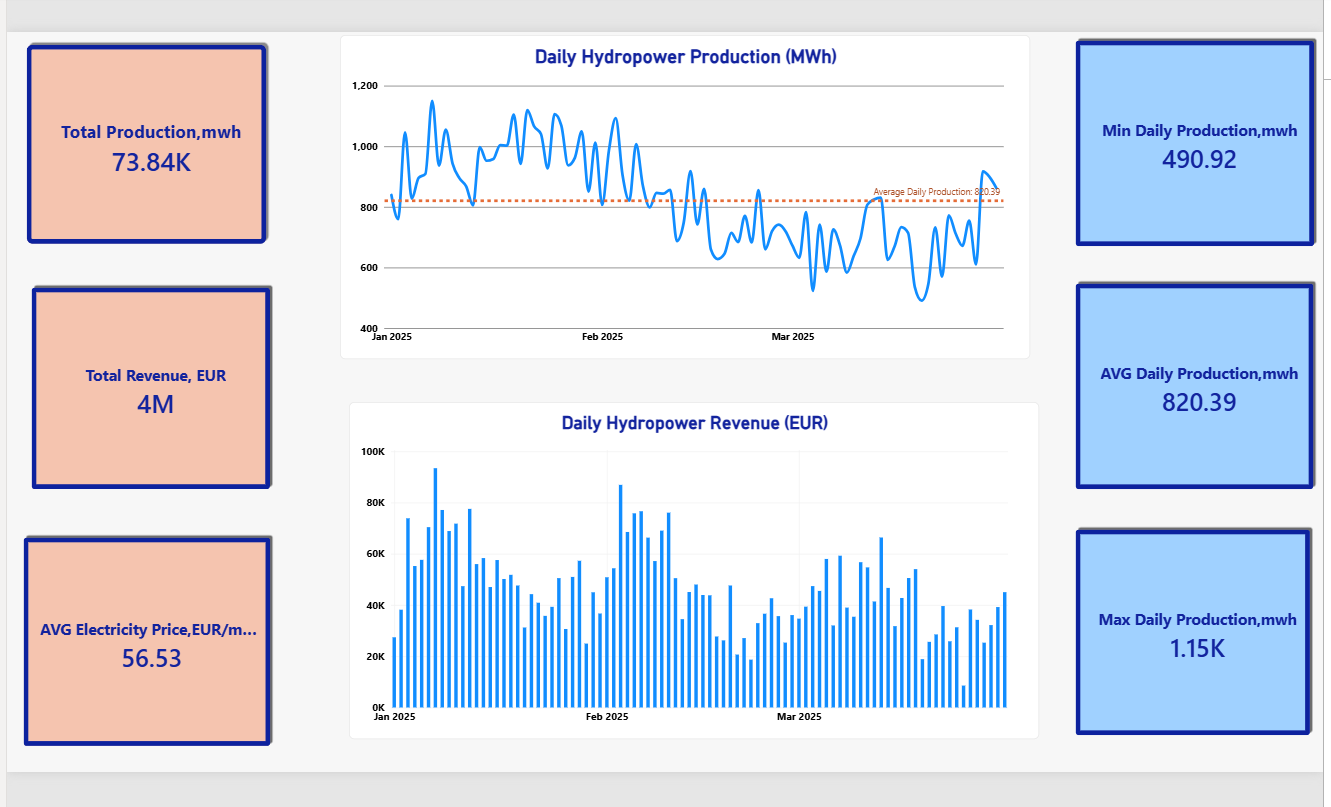

What the dashboard file says about the page in this screenshot:
{"tool":"powerbi","page":{"name":"Overwie","canvas":[1920,1080],"ordinal":0},"visuals":[{"type":"cardVisual","fields":{"Data":["Sum(hydropower_synthetic_daily_data – копія.production_mwh)"]},"box":[19,8.8,369.1,310.8],"z":0},{"type":"cardVisual","fields":{"Data":["Sum(hydropower_synthetic_daily_data – копія.estimated_revenue_eur)"]},"box":[23.3,360.4,373.5,319.5],"z":1},{"type":"cardVisual","fields":{"Data":["Avg(hydropower_synthetic_daily_data – копія.production_mwh)"]},"box":[1546.5,354.5,372,325.3],"z":2},{"type":"cardVisual","fields":{"Data":["Max(hydropower_synthetic_daily_data – копія.production_mwh)"]},"box":[1546.5,713.4,367.7,325.3],"z":3},{"type":"cardVisual","fields":{"Data":["Min(hydropower_synthetic_daily_data – копія.production_mwh)"]},"box":[1546.5,0,373.5,325.3],"z":4},{"type":"cardVisual","fields":{"Data":["Avg(hydropower_synthetic_daily_data – копія.electricity_price_eur_mwh)"]},"box":[11.7,725.1,385.2,329.7],"z":5},{"type":"lineChart","title":"Daily Hydropower Production (MWh)","fields":{"Category":["hydropower_synthetic_daily_data – копія.date"],"Y":["Sum(hydropower_synthetic_daily_data – копія.production_mwh)"]},"box":[485.8,4.4,1006.7,472.7],"z":6},{"type":"clusteredColumnChart","title":"Daily Hydropower Revenue (EUR)","fields":{"Category":["hydropower_synthetic_daily_data – копія.date"],"Y":["Sum(hydropower_synthetic_daily_data – копія.estimated_revenue_eur)"]},"box":[499,539.8,1006.7,491.7],"z":7}]}

Visuals, with their boxes on the page's 1920x1080 design canvas (x1, y1, x2, y2). These are canvas units, not pixel positions in the 1331x807 screenshot, which may show the page scaled, cropped or inside an application window:
cardVisual - Sum(hydropower_synthetic_daily_data – копія.production_mwh): <box>19,9,388,320</box>
cardVisual - Sum(hydropower_synthetic_daily_data – копія.estimated_revenue_eur): <box>23,360,397,680</box>
cardVisual - Avg(hydropower_synthetic_daily_data – копія.production_mwh): <box>1546,354,1918,680</box>
cardVisual - Max(hydropower_synthetic_daily_data – копія.production_mwh): <box>1546,713,1914,1039</box>
cardVisual - Min(hydropower_synthetic_daily_data – копія.production_mwh): <box>1546,0,1920,325</box>
cardVisual - Avg(hydropower_synthetic_daily_data – копія.electricity_price_eur_mwh): <box>12,725,397,1055</box>
"Daily Hydropower Production (MWh)" lineChart: <box>486,4,1492,477</box>
"Daily Hydropower Revenue (EUR)" clusteredColumnChart: <box>499,540,1506,1032</box>
